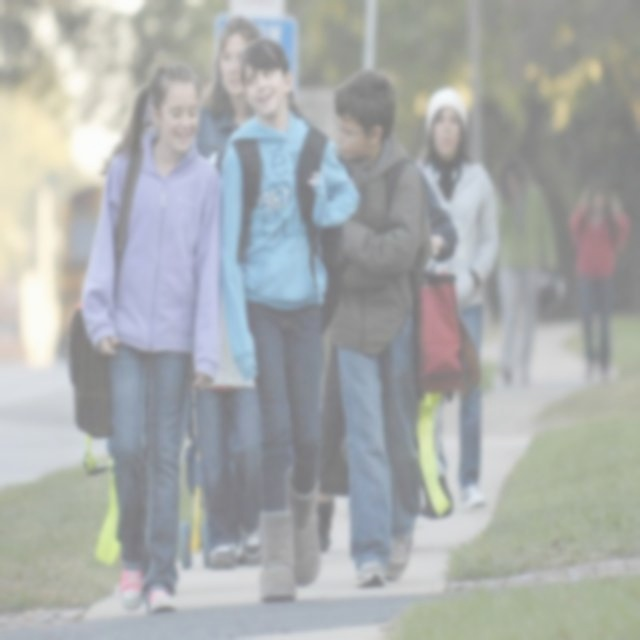pessoa: (64, 62, 222, 618), (214, 28, 364, 610), (324, 65, 438, 590), (313, 150, 460, 556), (412, 83, 503, 512), (490, 152, 561, 392), (565, 178, 632, 388), (195, 14, 264, 180)
